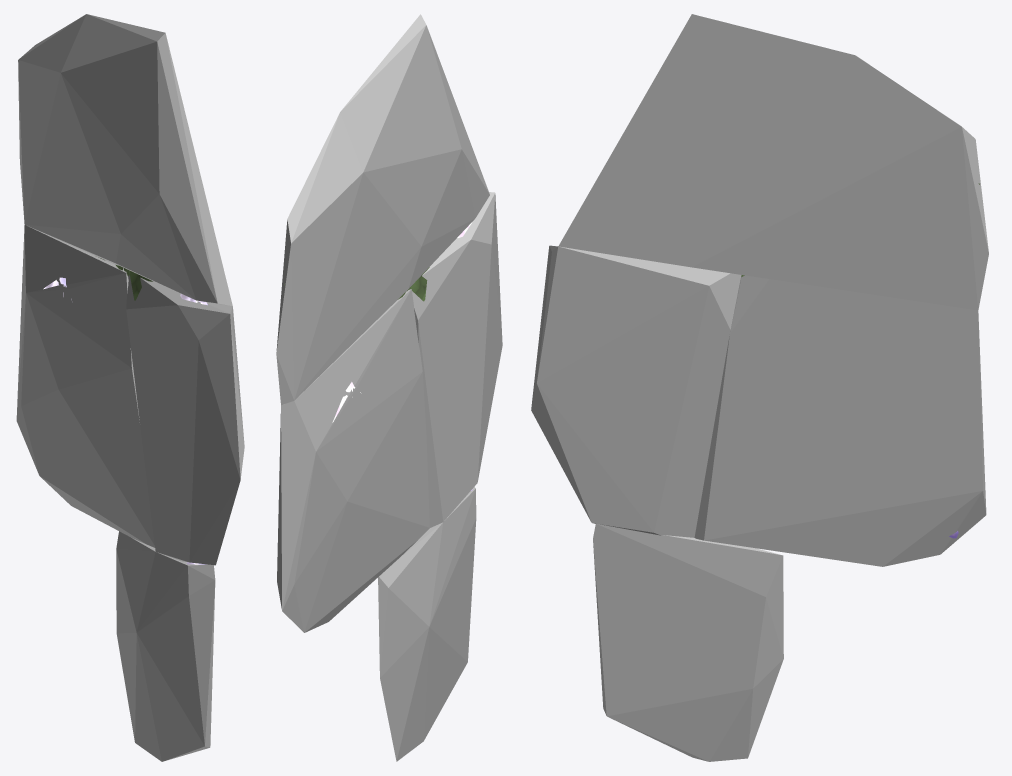
The model's file is SM_Env_Vines_Preset_Wall_03.fbx.
The picture shows the model from 3 angles, left to right: view 1: azimuth 30°, elevation 25°; view 2: azimuth 150°, elevation 25°; view 3: azimuth 270°, elevation 25°; orthographic projection. The views are drawn at different scales.
Visible parts, largest first — view 1: SM_Env_Vines_Preset_Wall_03_ConvexHulls, SM_Env_Vines_Preset_Wall_03; view 2: SM_Env_Vines_Preset_Wall_03_ConvexHulls, SM_Env_Vines_Preset_Wall_03; view 3: SM_Env_Vines_Preset_Wall_03_ConvexHulls.
Part boxes in pixels (x1,y1,x2,y2): SM_Env_Vines_Preset_Wall_03_ConvexHulls: [16, 14, 244, 761]; SM_Env_Vines_Preset_Wall_03: [43, 257, 207, 564]; SM_Env_Vines_Preset_Wall_03_ConvexHulls: [276, 14, 502, 761]; SM_Env_Vines_Preset_Wall_03: [284, 222, 472, 490]; SM_Env_Vines_Preset_Wall_03_ConvexHulls: [531, 14, 988, 761].
Bounding box in the file's own units: 11.95 × 175 × 310.
3 materials, 2 textured.
